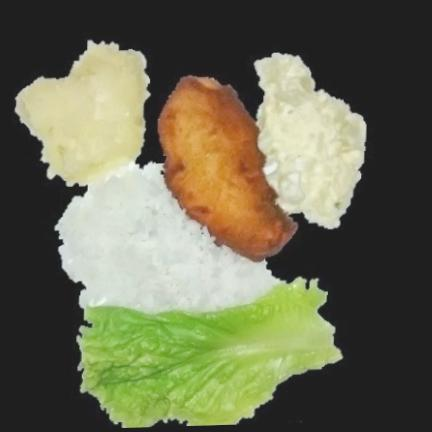chicken: (158, 79, 296, 261)
potato: (17, 42, 148, 186)
rice: (55, 164, 280, 314)
salad: (77, 280, 341, 428)
